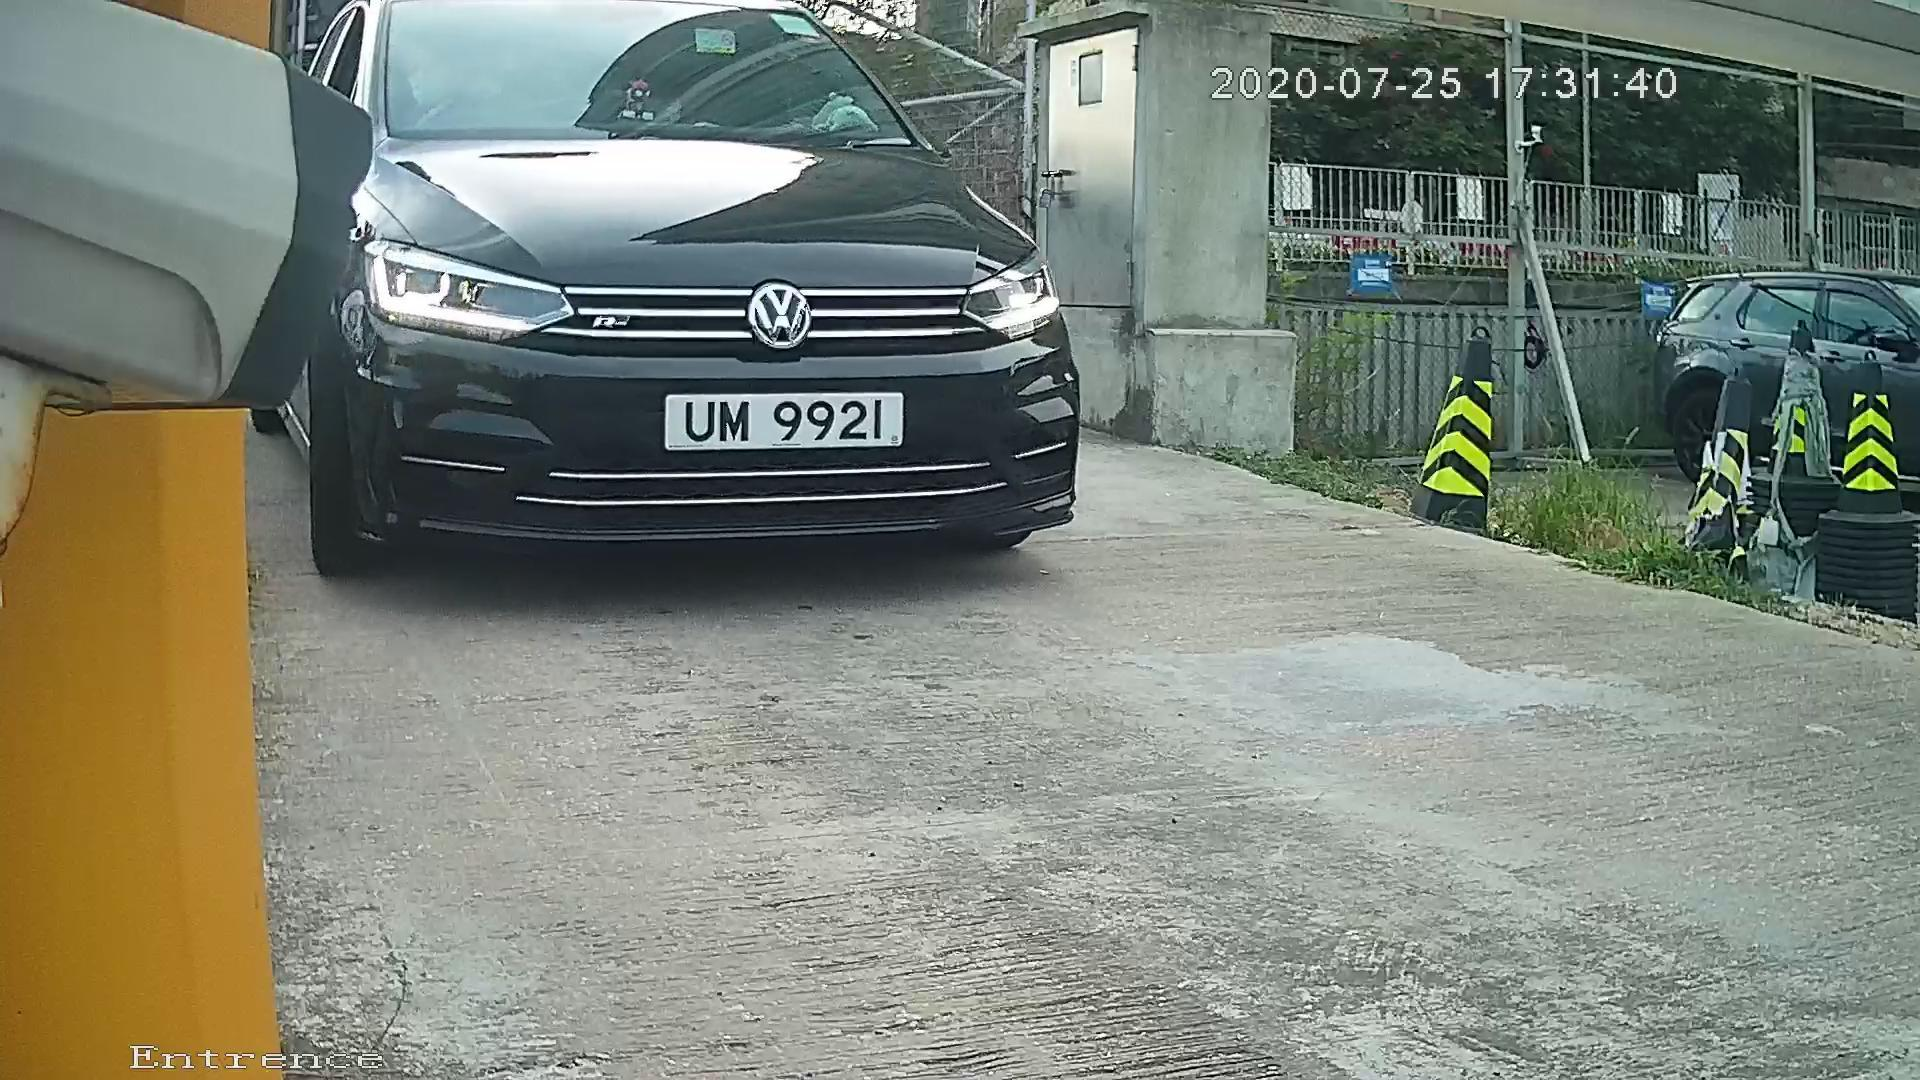privatecar: (198, 1, 1329, 593)
